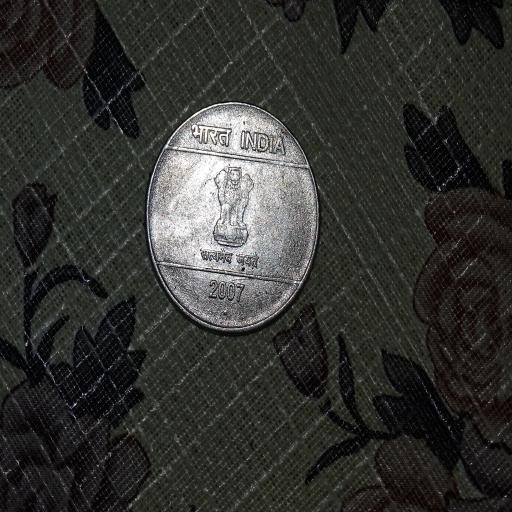rupee2: (146, 104, 321, 328)
